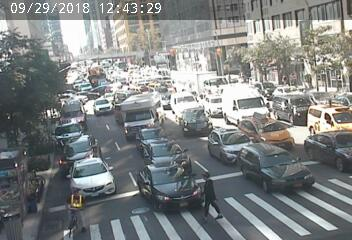car: (139, 163, 198, 200), (73, 162, 123, 198), (127, 99, 163, 131), (149, 144, 190, 171), (310, 133, 348, 160), (234, 89, 268, 115), (255, 149, 286, 177), (316, 102, 345, 128), (215, 124, 242, 150), (249, 118, 280, 140), (55, 124, 88, 141), (188, 111, 214, 132), (205, 71, 229, 91), (63, 145, 98, 158), (281, 97, 303, 117), (170, 92, 193, 109), (138, 130, 163, 143), (205, 92, 221, 107), (64, 104, 82, 116), (79, 83, 92, 92), (94, 104, 107, 111), (61, 96, 75, 102)
